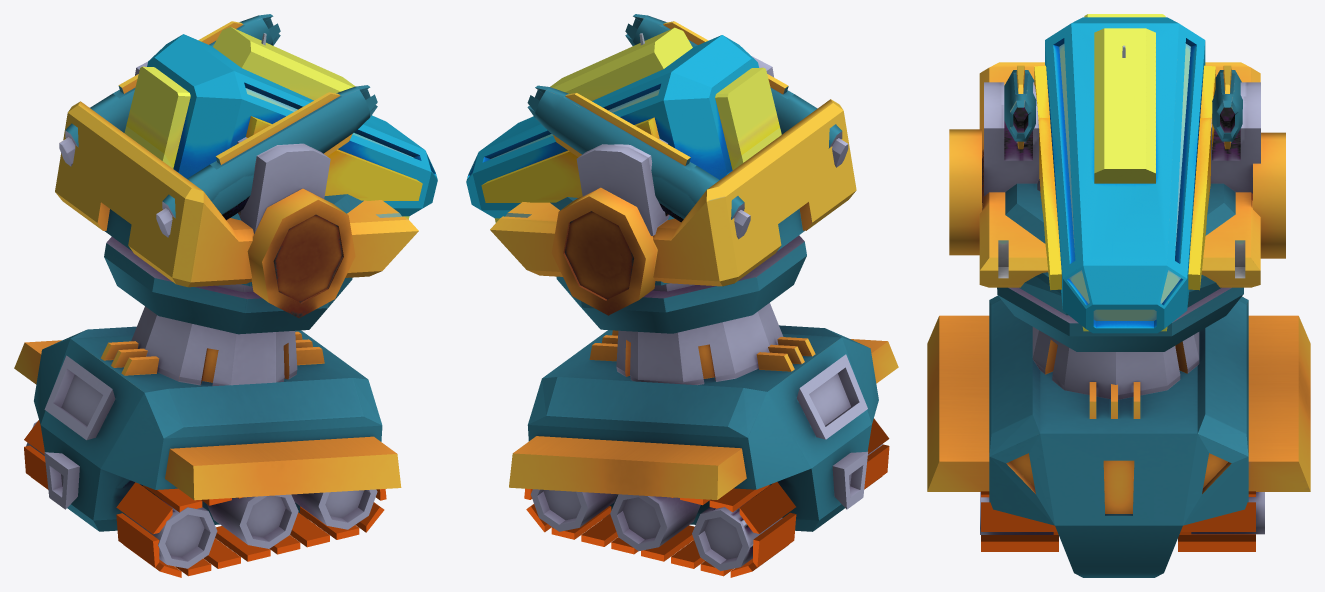
File: Player_moving_upgrade12.obj
3 views of the same model, side by side, from view 1: azimuth 30°, elevation 25°; view 2: azimuth 150°, elevation 25°; view 3: azimuth 270°, elevation 25° (orthographic). The views are drawn at different scales.
Parts seen in each view (by area): view 1: Object015, Object014, Box009, Box017, Box016; view 2: Object015, Object014, Box009, Box016, Box017; view 3: Object015, Object014, Box016, Box017, Box009.
Boxes of the visible parts, x1=… form: Object015: x1=14, y1=27, x2=437, y2=531; Object014: x1=59, y1=14, x2=377, y2=237; Box009: x1=26, y1=421, x2=377, y2=568; Box017: x1=116, y1=482, x2=386, y2=577; Box016: x1=24, y1=420, x2=48, y2=489; Object015: x1=466, y1=27, x2=898, y2=531; Object014: x1=527, y1=14, x2=848, y2=239; Box009: x1=530, y1=444, x2=883, y2=571; Box016: x1=524, y1=482, x2=796, y2=577; Box017: x1=864, y1=418, x2=889, y2=489; Object015: x1=927, y1=14, x2=1310, y2=577; Object014: x1=1004, y1=65, x2=1242, y2=149; Box016: x1=1178, y1=491, x2=1255, y2=551; Box017: x1=981, y1=491, x2=1058, y2=551; Box009: x1=980, y1=492, x2=1264, y2=534.
Size of the model in its own units: 70.38 by 88.9 by 59.78.
Materials: 5 (3 with a texture image).
